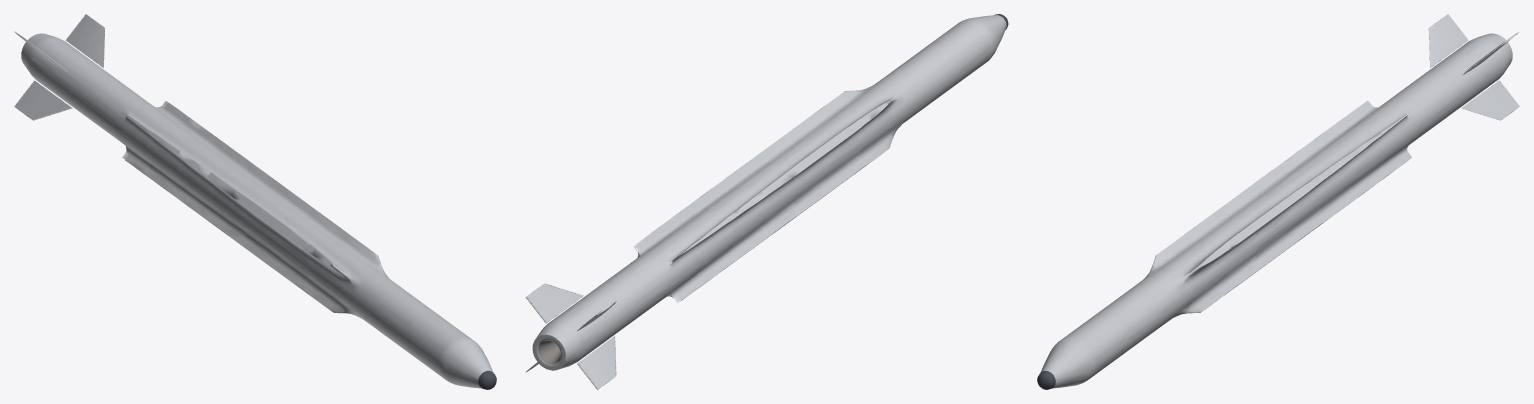
The picture shows the model from 3 angles, left to right: view 1: azimuth 30°, elevation 25°; view 2: azimuth 150°, elevation 25°; view 3: azimuth 330°, elevation 25°; orthographic projection.
Parts seen in each view (by area): view 1: airframe, fsim:fin:3419906077:1|elevator+aileron:1+rudder:1@-20,20, fsim:fin:3899119507:1|elevator+aileron:-1+rudder:1@-20,20; view 2: airframe, fsim:fin:3419906077:1|elevator+aileron:1+rudder:1@-20,20, fsim:fin:3899119507:1|elevator+aileron:-1+rudder:1@-20,20; view 3: airframe, fsim:fin:453677541:1|elevator+aileron:-1+rudder:-1@-20,20, fsim:fin:1916934482:1|elevator+aileron:1+rudder:-1@-20,20.
Part boxes in pixels (<box>): airframe: <box>21,33,496,389</box>; fsim:fin:3419906077:1|elevator+aileron:1+rudder:1@-20,20: <box>65,14,105,67</box>; fsim:fin:3899119507:1|elevator+aileron:-1+rudder:1@-20,20: <box>14,80,72,120</box>; airframe: <box>532,14,1008,370</box>; fsim:fin:3419906077:1|elevator+aileron:1+rudder:1@-20,20: <box>525,283,583,323</box>; fsim:fin:3899119507:1|elevator+aileron:-1+rudder:1@-20,20: <box>577,336,616,389</box>; airframe: <box>1037,33,1512,389</box>; fsim:fin:453677541:1|elevator+aileron:-1+rudder:-1@-20,20: <box>1428,14,1468,67</box>; fsim:fin:1916934482:1|elevator+aileron:1+rudder:-1@-20,20: <box>1461,80,1519,120</box>.
Bounding box in the file's own units: 0.2787 × 0.2784 × 3.
Materials: 4 (1 with a texture image).
